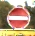No entry: (6, 6, 30, 31)
